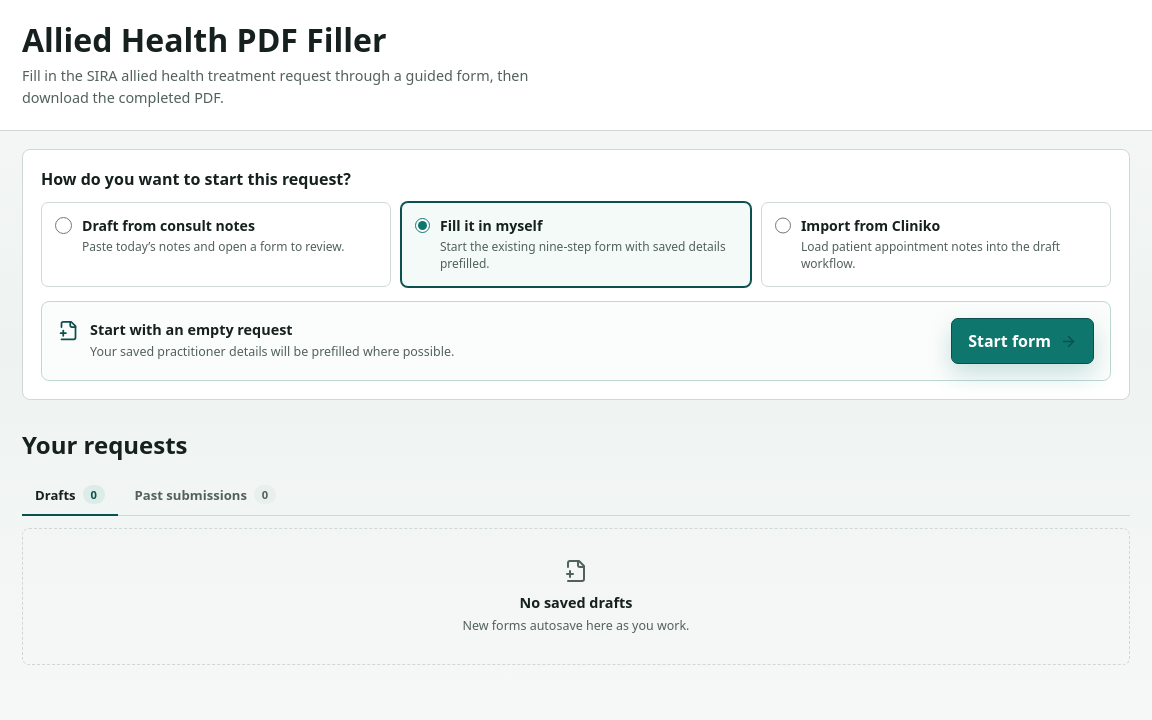
Scenario: HomeScreen Cliniko import › collates selected Cliniko appointments into the consult notes field
The image size is (1152, 720).
Click the radio button labelled "Import from Cliniko" at x=783, y=226, box [775, 217, 791, 234]
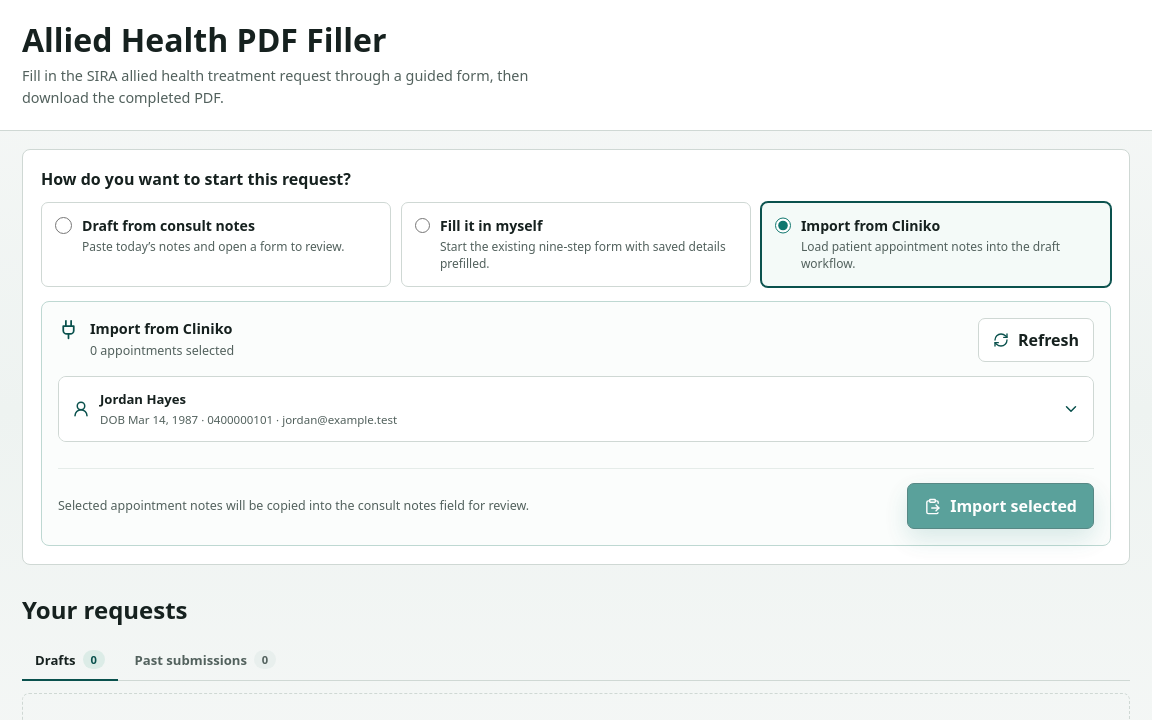
Click the button "Jordan Hayes" at x=143, y=399, box [59, 377, 1093, 441]
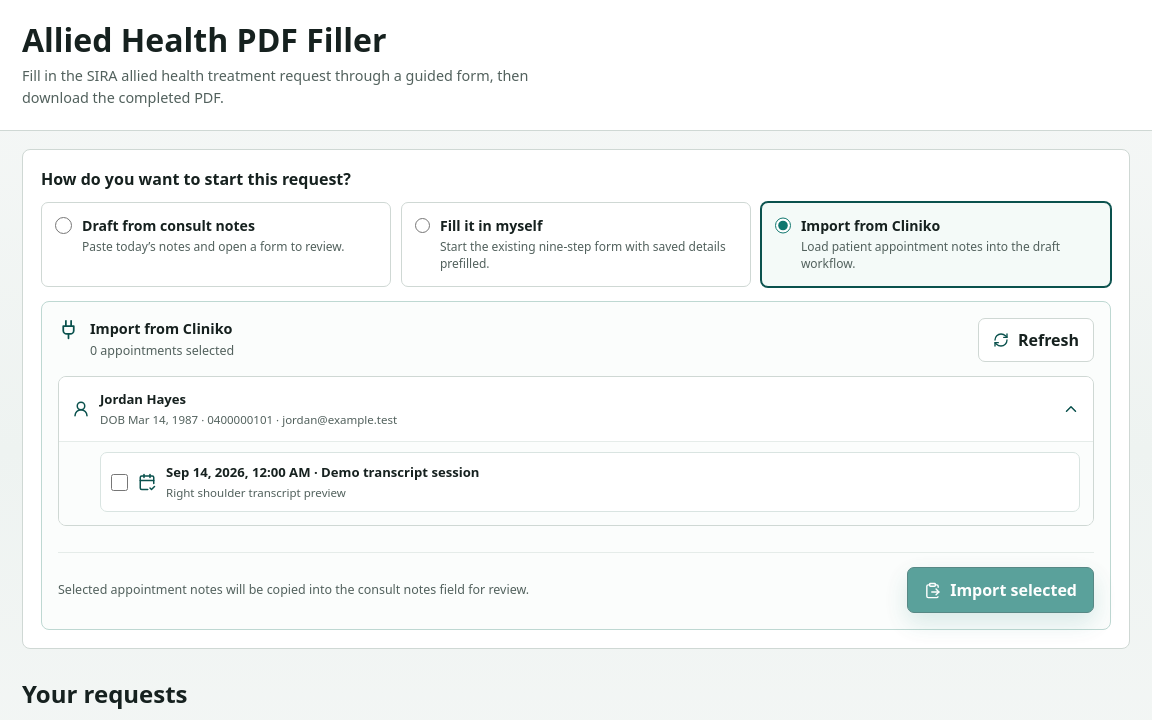
Click the checkbox labelled "Demo transcript session" at x=120, y=482, box [111, 474, 128, 491]
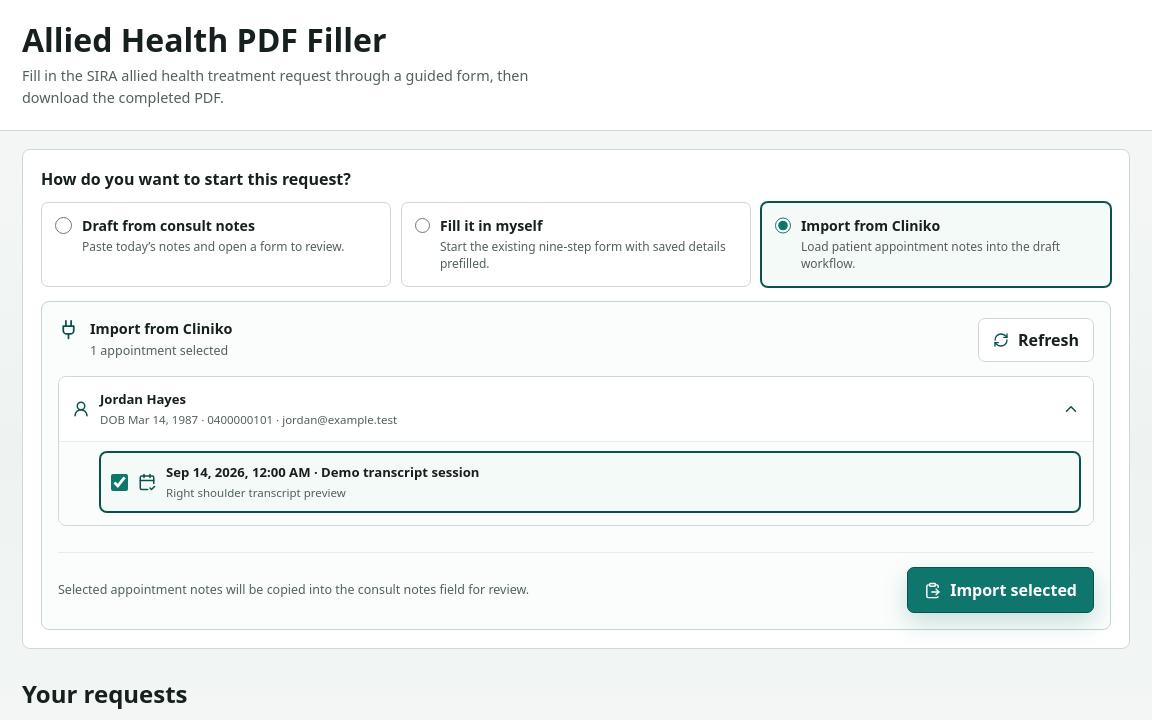
Click the button "Import selected" at x=1001, y=590, box [907, 567, 1094, 613]
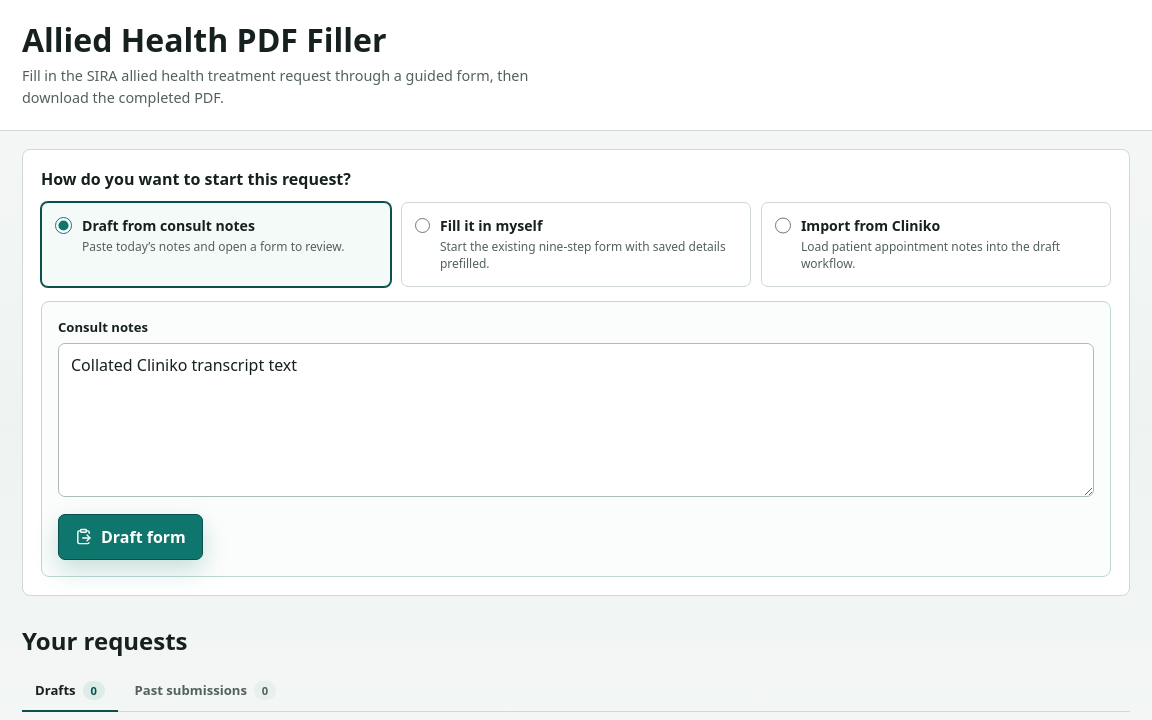
Now the button "Draft form" is enabled, box [58, 514, 203, 560]
Now the text box labelled "Consult notes" holds "Collated Cliniko transcript text", box [58, 343, 1094, 497]
